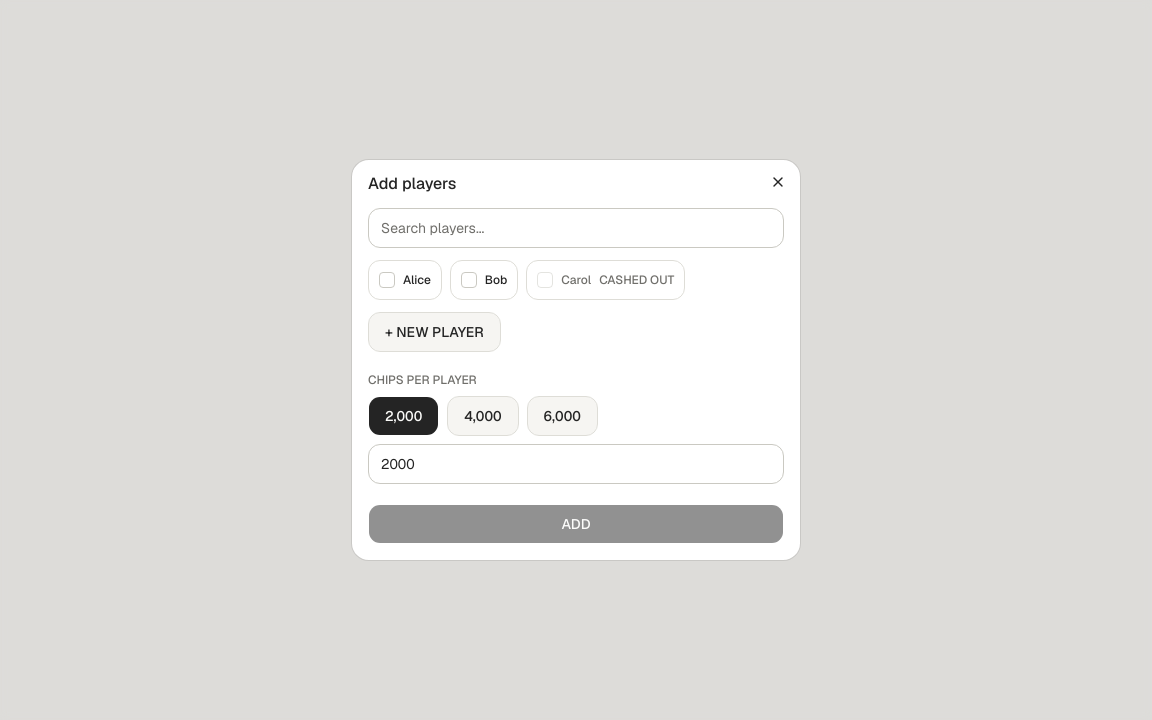
Test: player picker through real React and Radix › shows inline creation failures without joining
Step 1. Click the button "+ NEW PLAYER" → [434, 332], box left=368, top=312, right=501, bottom=352
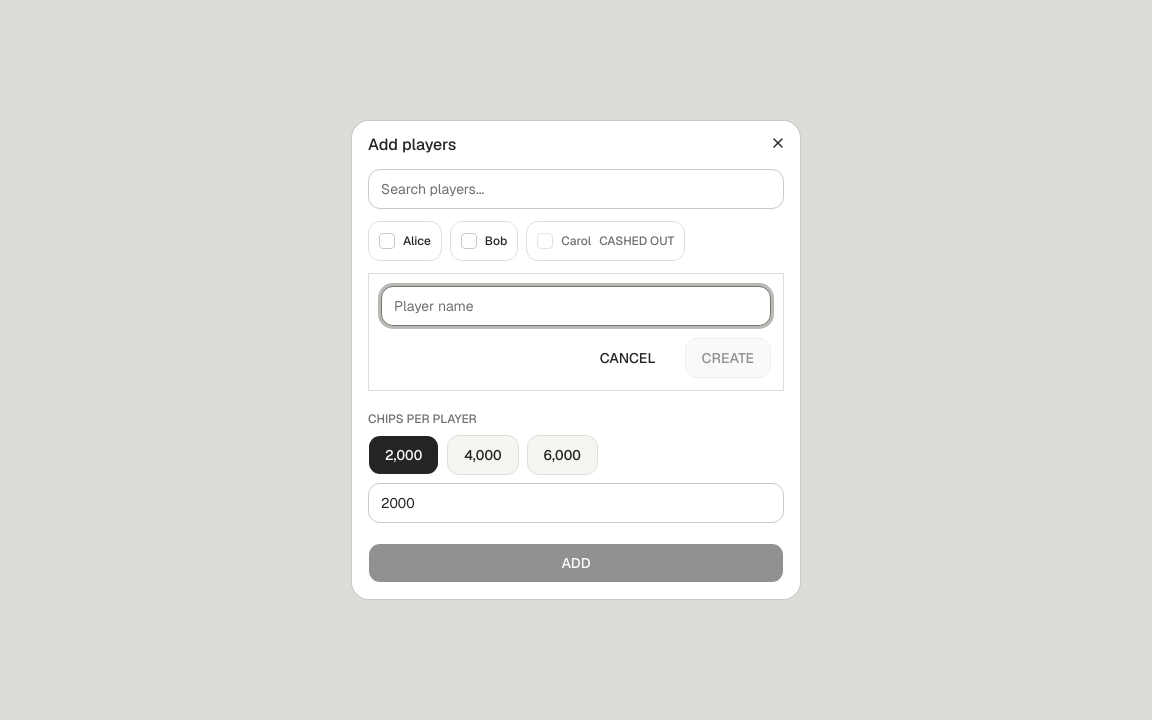
Step 2. Type "Dave" into the field named "New player name" → [576, 306], box left=381, top=286, right=771, bottom=326
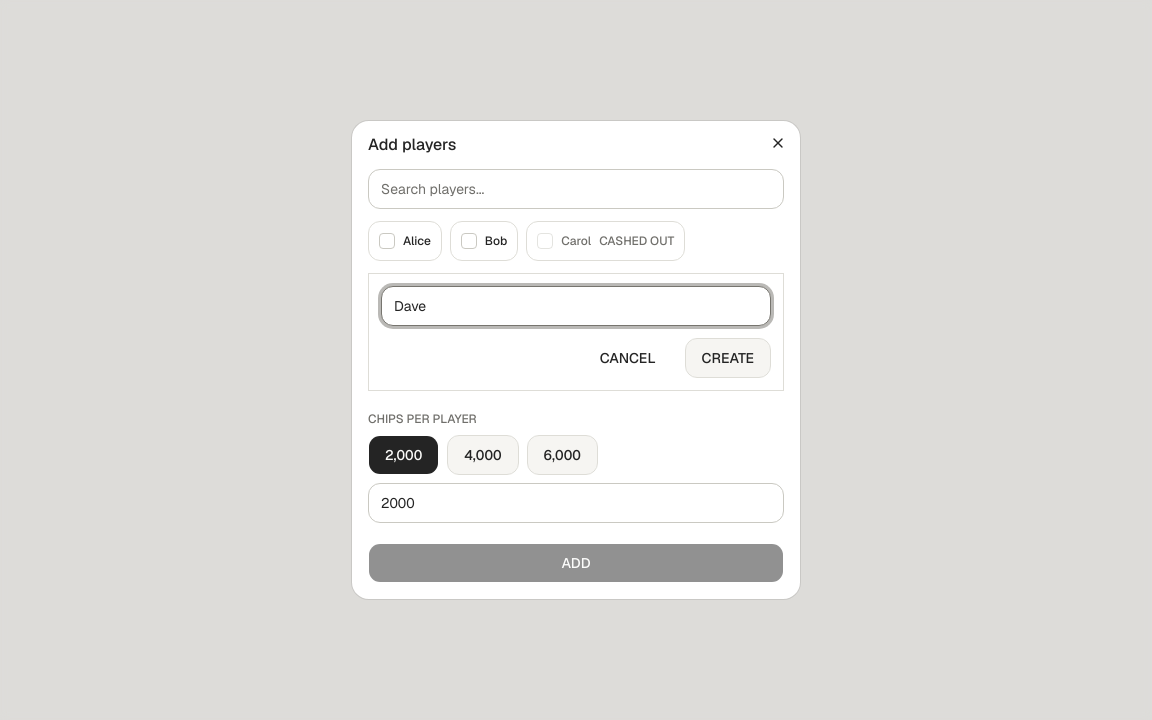
Step 3. Click the button "CREATE" → [728, 358], box left=684, top=338, right=771, bottom=378
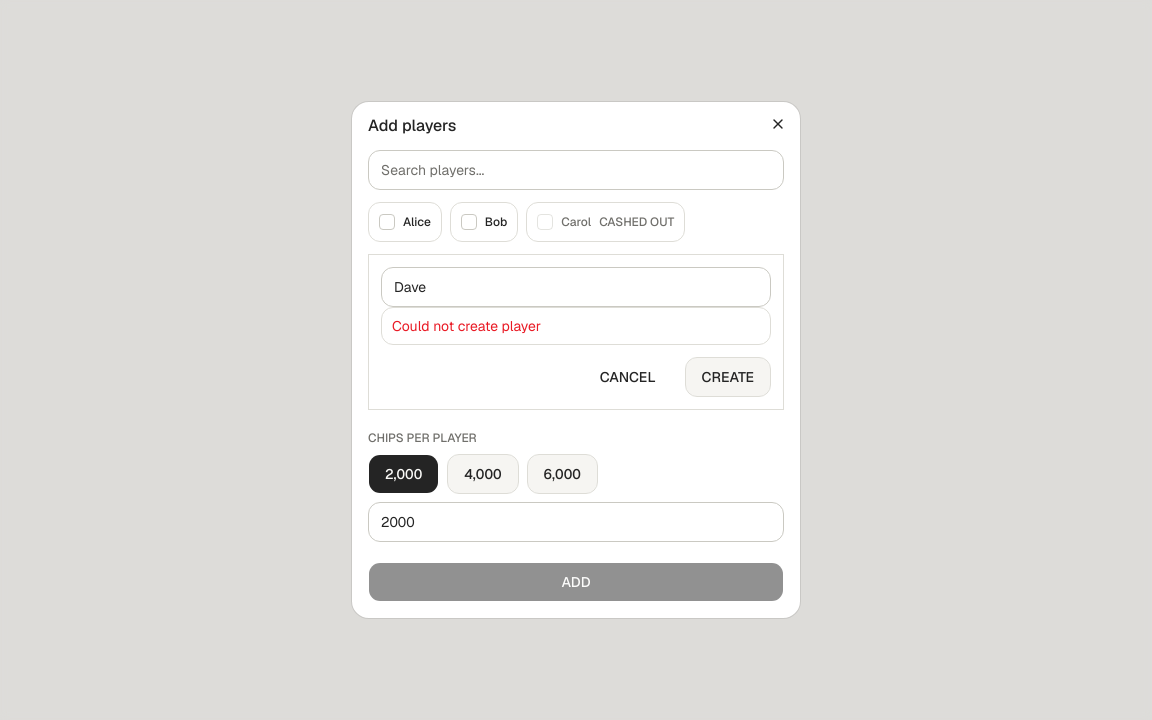
Check: the message reads "Could not create player", box left=392, top=317, right=541, bottom=335
